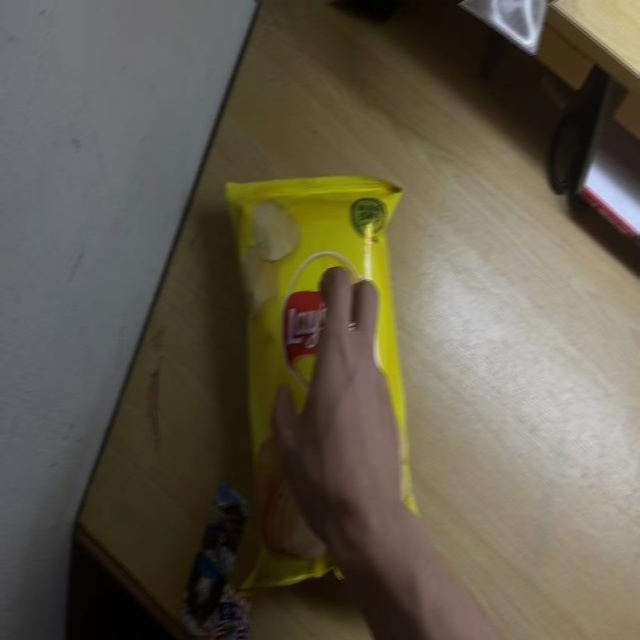Lay-s-original: (226, 175, 425, 579)
